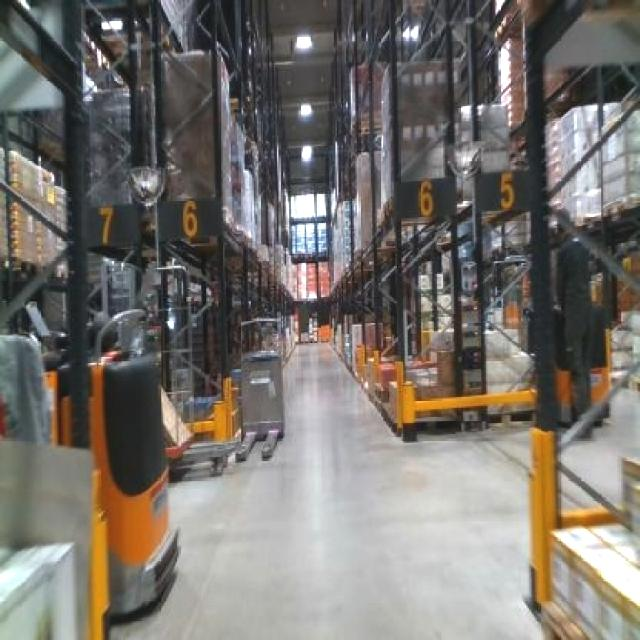pallets: (532, 522, 637, 637), (0, 540, 74, 637), (234, 349, 282, 458)
